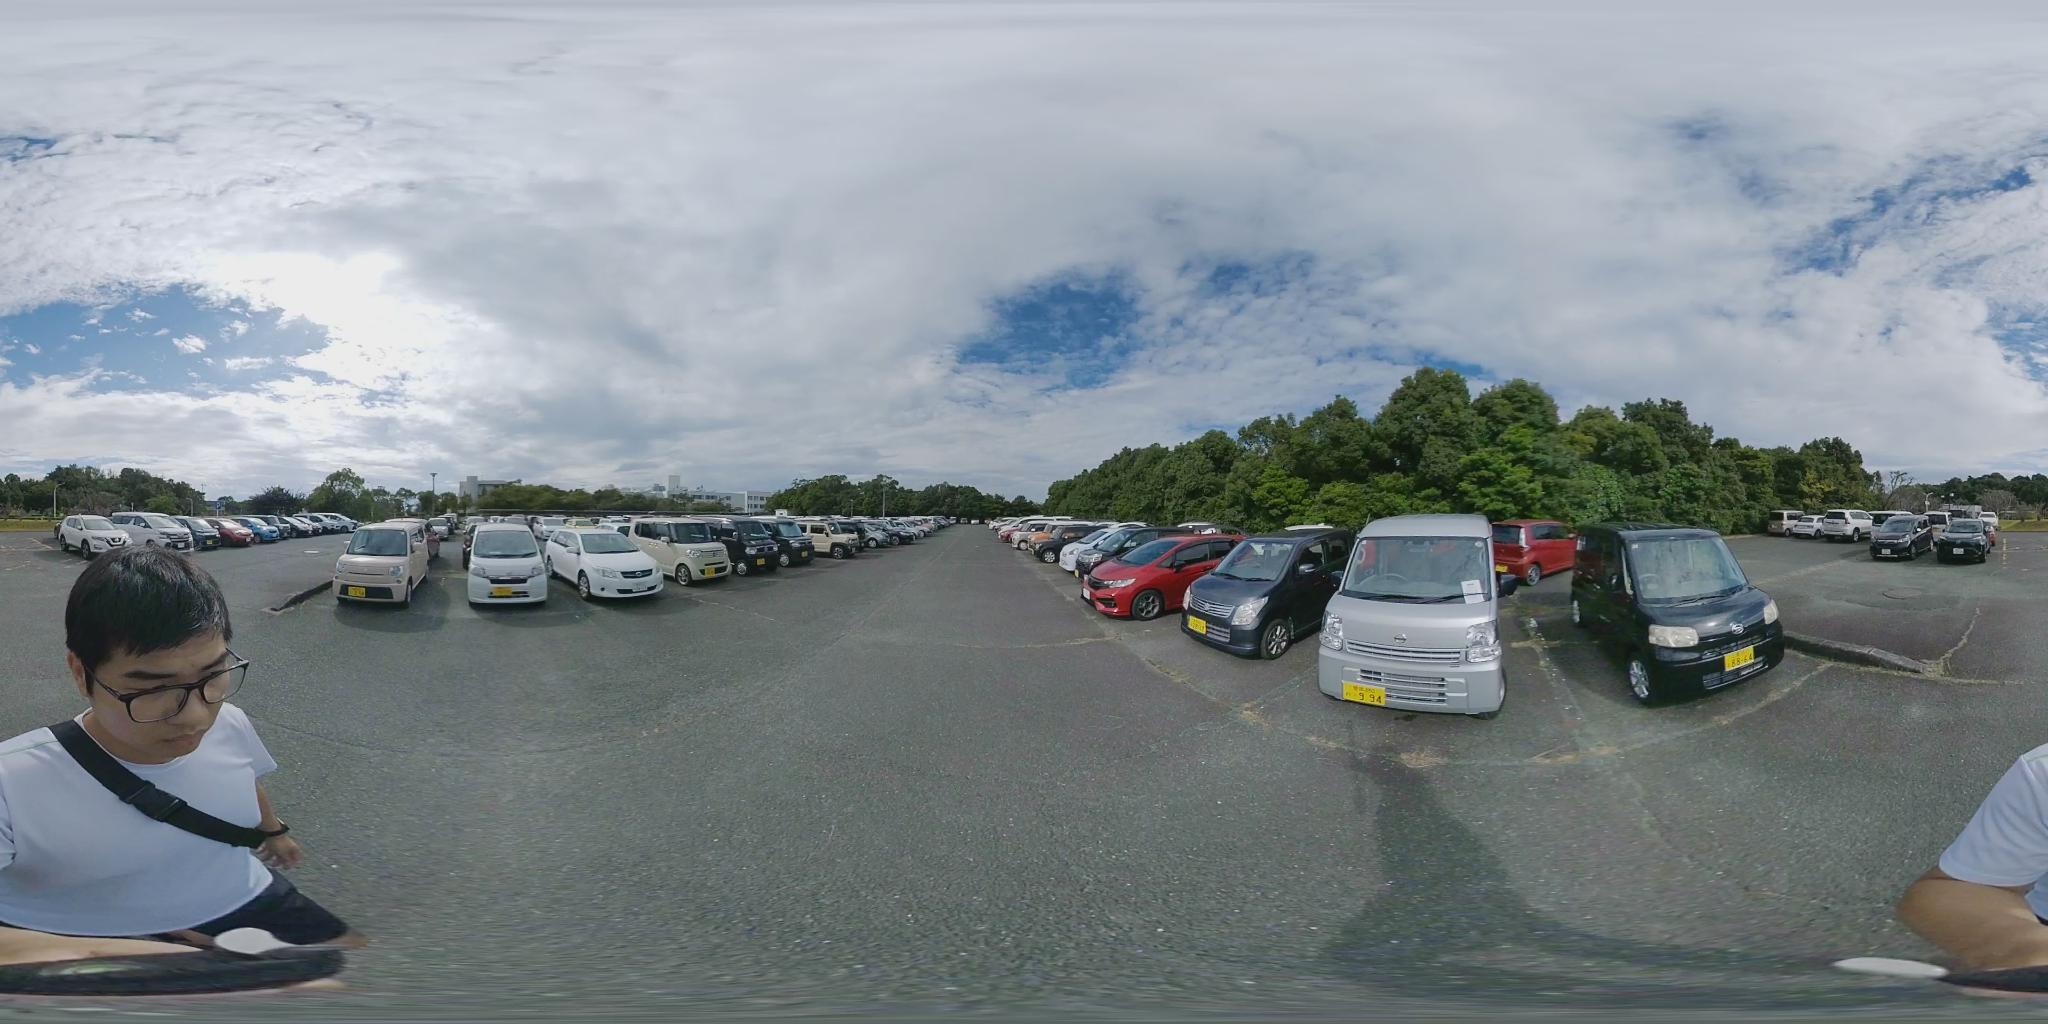car: (1182, 529, 1362, 657), (1081, 533, 1249, 620), (1071, 522, 1211, 589), (543, 529, 660, 603), (333, 521, 427, 610), (63, 512, 219, 552), (630, 520, 726, 585), (468, 526, 543, 607), (1489, 520, 1578, 586), (1051, 524, 1166, 575), (1872, 512, 1976, 562), (694, 515, 771, 572), (1917, 511, 1998, 563), (51, 511, 142, 554), (744, 516, 808, 566), (136, 517, 225, 550), (1866, 515, 1929, 559), (1782, 513, 1878, 542), (191, 519, 253, 549), (872, 519, 936, 547), (213, 520, 274, 546), (236, 519, 295, 545), (1776, 515, 1835, 541), (291, 516, 349, 538), (265, 519, 319, 542), (897, 519, 947, 543), (313, 512, 355, 530)
